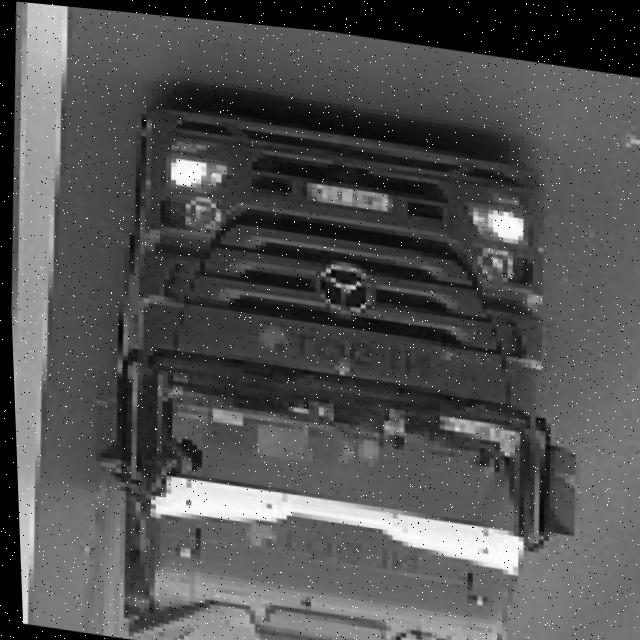truck: (103, 87, 601, 640)
